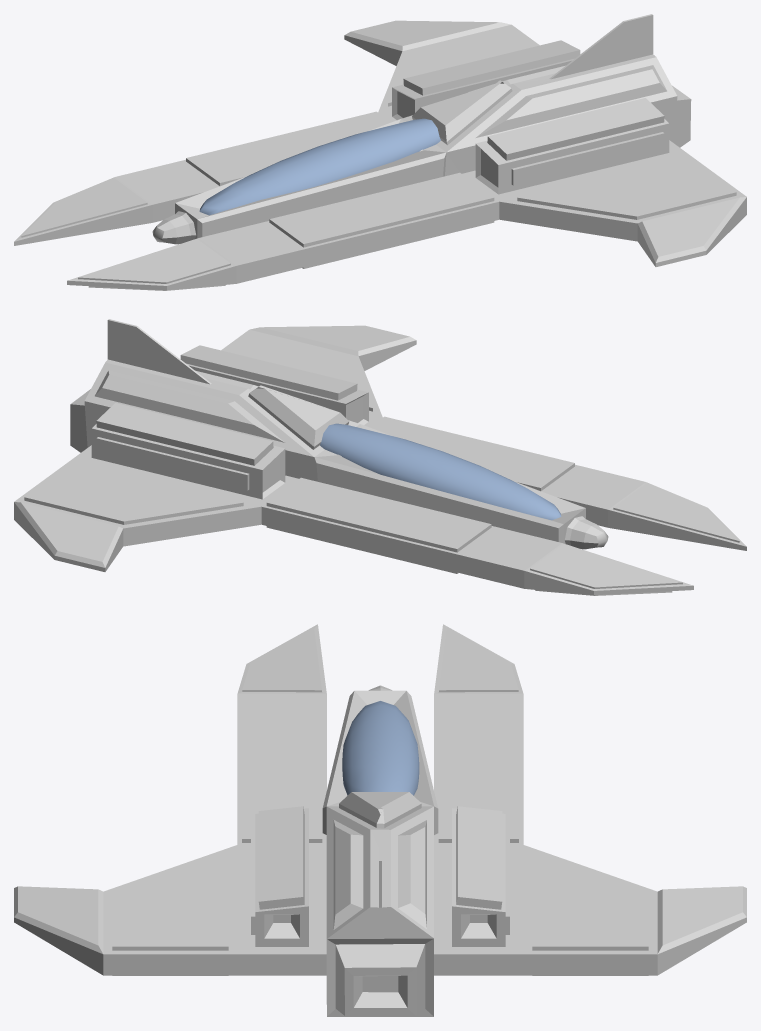
File: vicViper.fbx
3 renders of one model, top to bottom at view 1: azimuth 30°, elevation 25°; view 2: azimuth 150°, elevation 25°; view 3: azimuth 270°, elevation 25°, orthographic. The views are drawn at different scales.
Parts seen in each view (by area): view 1: Box01, Sphere01; view 2: Box01, Sphere01; view 3: Box01, Sphere01.
Part boxes in pixels (box(x1,y1,x2,y2)): Box01: box(14, 14, 746, 290); Sphere01: box(199, 118, 440, 215); Box01: box(14, 319, 746, 595); Sphere01: box(320, 423, 561, 520); Box01: box(14, 624, 746, 1016); Sphere01: box(342, 701, 419, 795).
Size of the model in its own units: 96.67 by 19.48 by 82.
